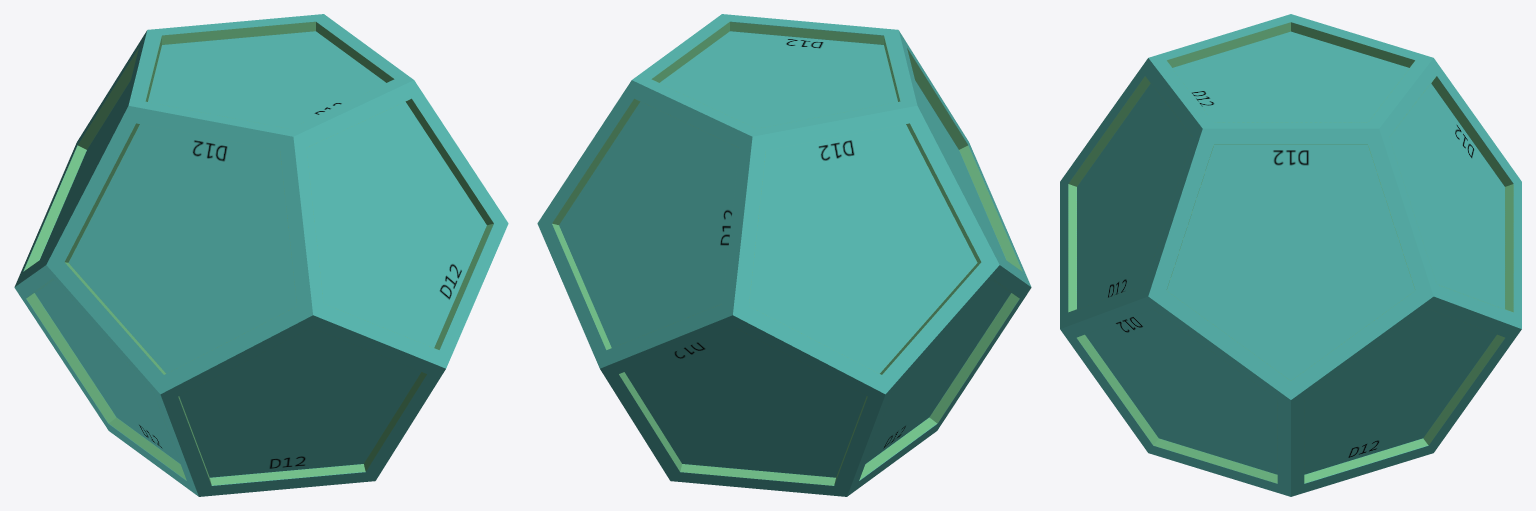
The model's file is D12Complex.obj.
The picture shows the model from 3 angles, left to right: view 1: azimuth 30°, elevation 25°; view 2: azimuth 150°, elevation 25°; view 3: azimuth 270°, elevation 25°; orthographic projection. The views are drawn at different scales.
Visible parts, largest first — view 1: D12Complex; view 2: D12Complex; view 3: D12Complex.
Boxes of the visible parts, x1,y1,x2,y2 form: D12Complex: [14, 14, 508, 496]; D12Complex: [537, 14, 1031, 496]; D12Complex: [1060, 14, 1521, 496].
Bounding box in the file's own units: 2.8 × 2.27 × 2.67.
Materials: 1 (1 with a texture image).
